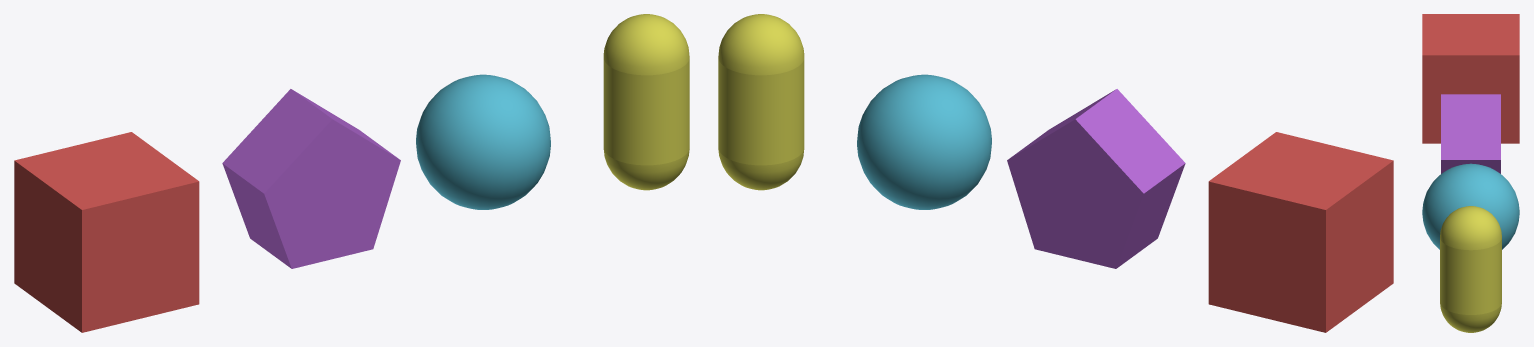
The model's file is shapes.dae.
3 renders of one model, left to right at view 1: azimuth 30°, elevation 25°; view 2: azimuth 150°, elevation 25°; view 3: azimuth 270°, elevation 25°, orthographic. The views are drawn at different scales.
Parts seen in each view (by area): view 1: Cube, Convex, Sphere, Capsule; view 2: Cube, Convex, Sphere, Capsule; view 3: Cube, Capsule, Sphere, Convex.
Boxes of the visible parts, x1=… form: Cube: x1=14, y1=132, x2=199, y2=332; Convex: x1=222, y1=89, x2=400, y2=268; Sphere: x1=416, y1=74, x2=550, y2=209; Capsule: x1=603, y1=14, x2=689, y2=190; Cube: x1=1208, y1=132, x2=1393, y2=332; Convex: x1=1007, y1=89, x2=1185, y2=268; Sphere: x1=857, y1=74, x2=991, y2=209; Capsule: x1=718, y1=14, x2=804, y2=190; Cube: x1=1422, y1=14, x2=1519, y2=143; Capsule: x1=1440, y1=206, x2=1501, y2=332; Sphere: x1=1422, y1=163, x2=1519, y2=249; Convex: x1=1441, y1=94, x2=1500, y2=173.
Bounding box in the file's own units: 10.83 × 2 × 2.74.
